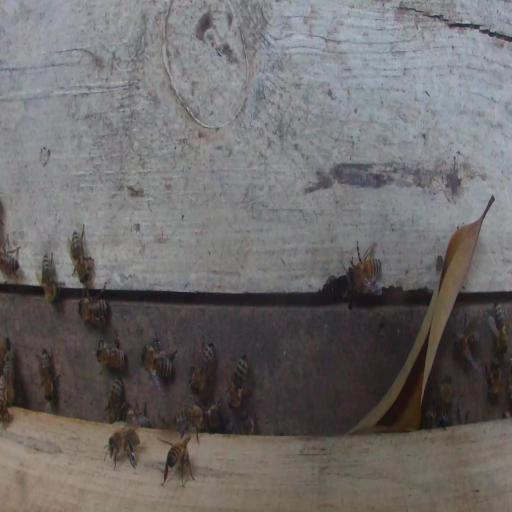bee: (161, 433, 195, 488), (348, 240, 382, 295), (67, 226, 93, 283), (189, 338, 215, 392), (453, 322, 481, 368), (37, 347, 60, 402), (226, 353, 248, 409), (140, 344, 174, 380), (488, 302, 509, 355), (176, 404, 204, 441), (108, 426, 141, 457), (95, 340, 127, 371), (79, 297, 109, 328), (104, 377, 124, 423), (0, 235, 20, 280), (436, 375, 452, 430), (42, 256, 58, 308), (487, 357, 502, 404), (203, 400, 223, 431), (125, 402, 148, 427), (238, 410, 255, 435)
